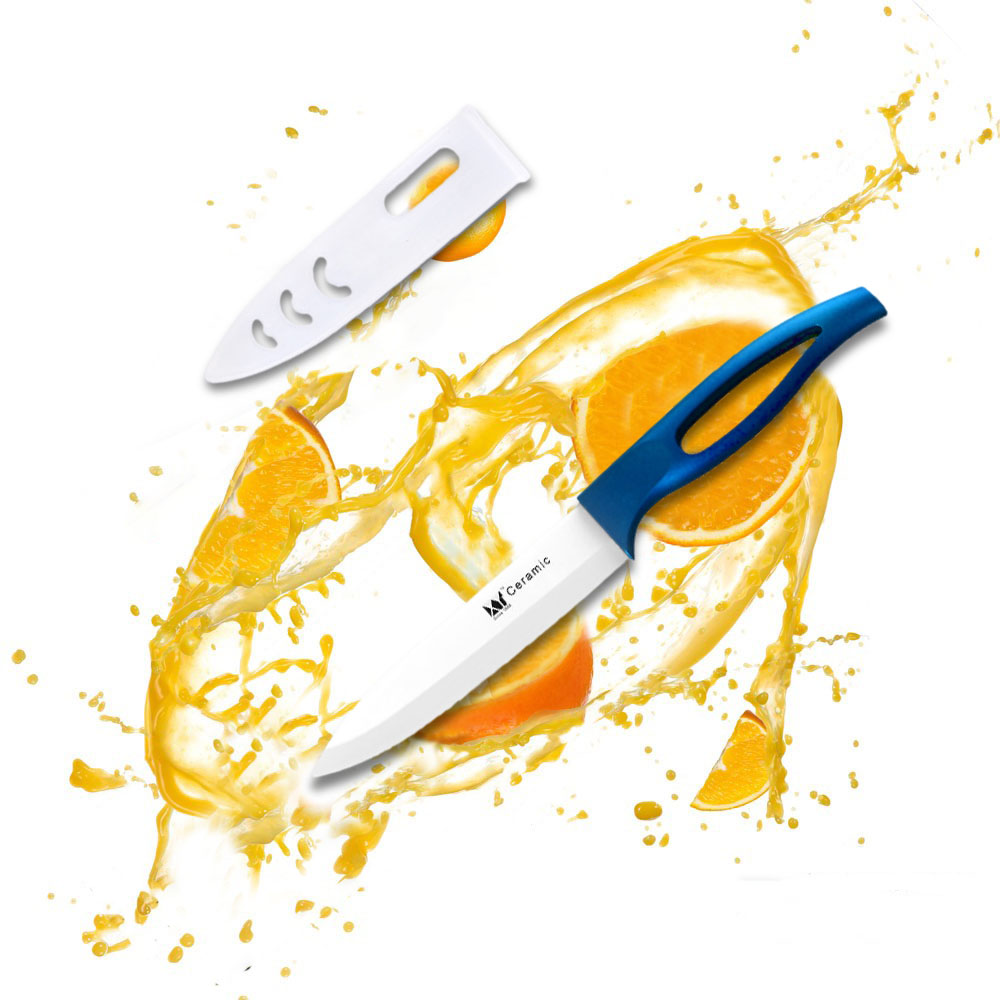knief: (306, 299, 902, 795)
